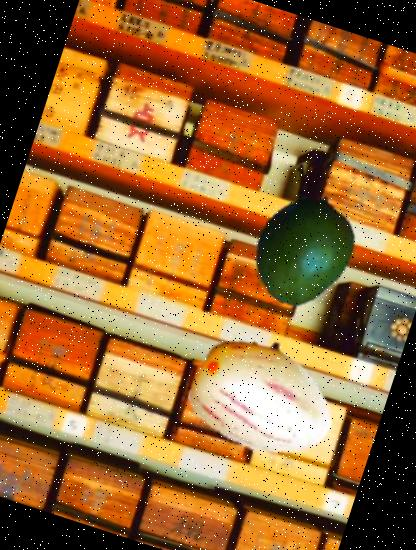Mango: (232, 178, 374, 320)
Pepino: (170, 304, 355, 489)
